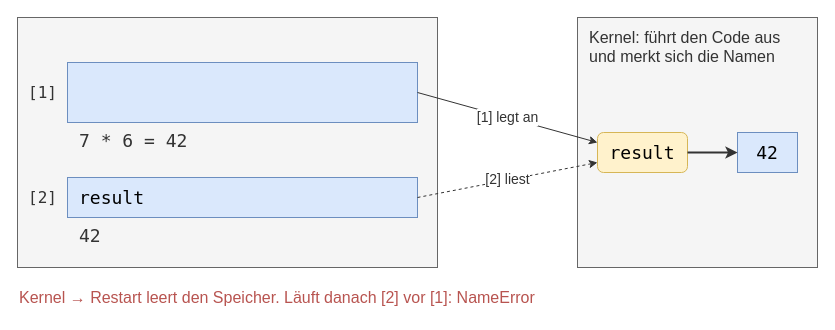
Some shapes in this 835 by 330 pixel diagram are drawn without their labels. Here are the shapes that lost their labels. From the top down, the box of each, then its label:
(66, 62, 418, 122): result = 7 * 6 print("7 * 6 =", result)
(16, 16, 438, 268): Notebook
